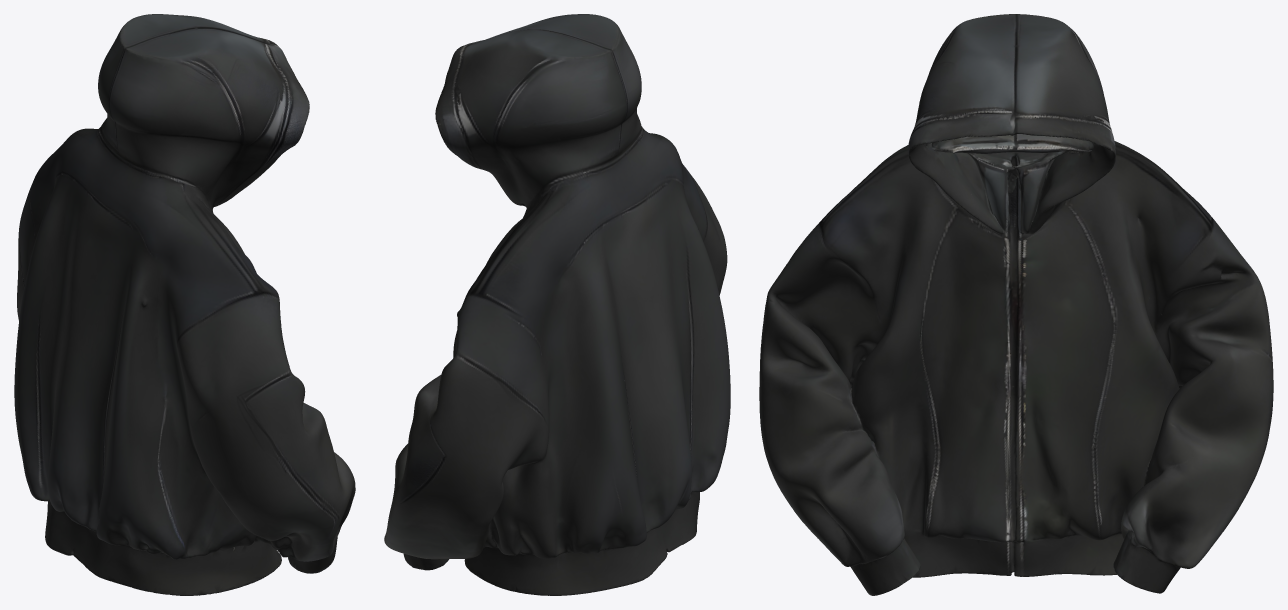
Rendered from tripo_pbr_model_8591d481-a1dd-_261a0412_opt.glb.
3 views of the same model, side by side, from view 1: azimuth 30°, elevation 25°; view 2: azimuth 150°, elevation 25°; view 3: azimuth 270°, elevation 25° (orthographic). The views are drawn at different scales.
Parts seen in each view (by area): view 1: tripo_node_8591d481-a1dd-49e1-89dd-4927c6ce09ca; view 2: tripo_node_8591d481-a1dd-49e1-89dd-4927c6ce09ca; view 3: tripo_node_8591d481-a1dd-49e1-89dd-4927c6ce09ca.
Boxes of the visible parts, <box> form: tripo_node_8591d481-a1dd-49e1-89dd-4927c6ce09ca: <box>14,14,355,595</box>; tripo_node_8591d481-a1dd-49e1-89dd-4927c6ce09ca: <box>384,14,730,595</box>; tripo_node_8591d481-a1dd-49e1-89dd-4927c6ce09ca: <box>759,14,1273,595</box>.
Bounding box in the file's own units: 0.4754 × 1 × 0.8908.
1 material, 1 textured.
